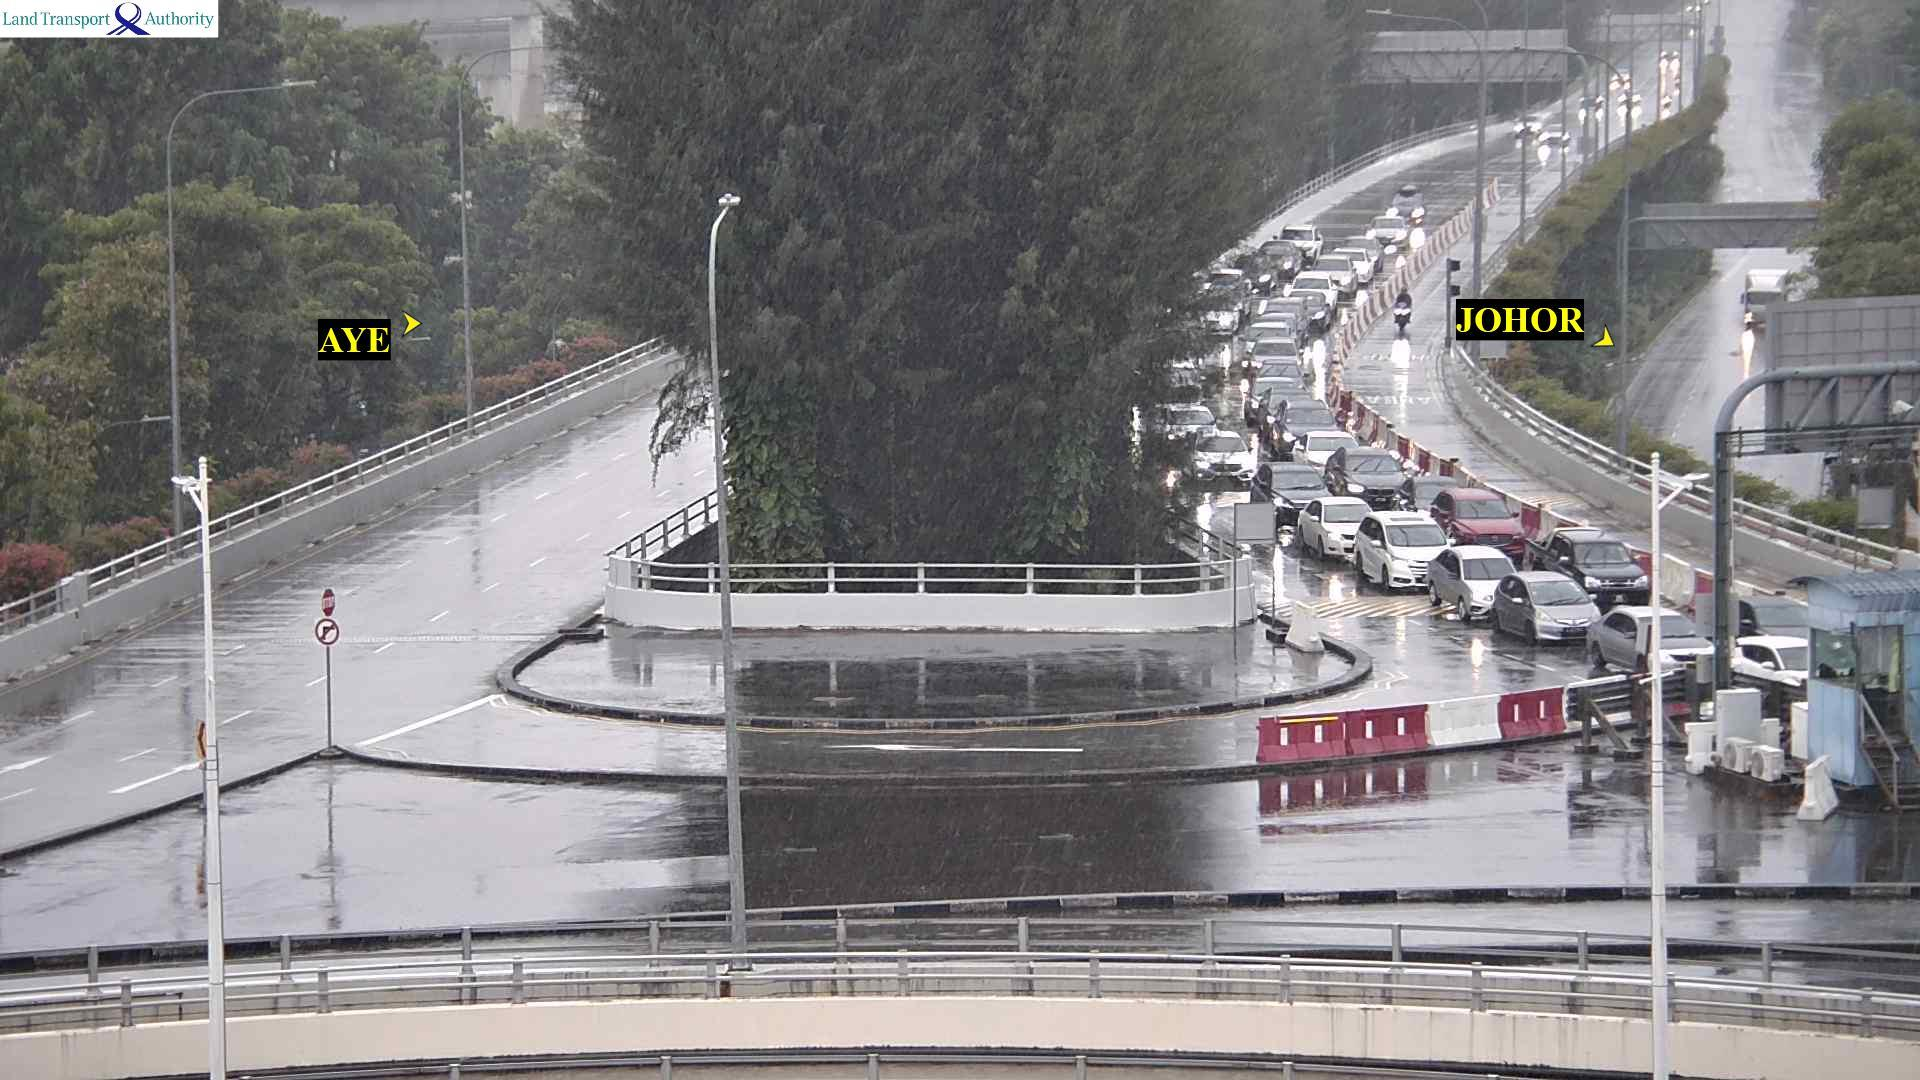vehicle-secondlink-johor: (1575, 612, 1732, 672), (1519, 532, 1658, 596), (1346, 519, 1468, 590), (1490, 577, 1613, 644), (1422, 493, 1541, 541), (1292, 501, 1383, 559), (1251, 465, 1340, 507), (1429, 549, 1532, 585), (1328, 449, 1396, 499), (1273, 401, 1334, 451), (1184, 434, 1249, 480), (1246, 302, 1323, 340), (1247, 379, 1310, 421), (1242, 317, 1320, 349), (1291, 278, 1349, 314), (1260, 391, 1313, 430), (1294, 431, 1359, 462), (1305, 260, 1372, 290), (1394, 476, 1455, 505), (1164, 408, 1212, 441), (1237, 255, 1278, 293), (1262, 240, 1303, 276), (1398, 192, 1438, 228), (1389, 187, 1426, 222), (1343, 236, 1383, 268), (1333, 246, 1368, 281), (1369, 219, 1412, 247), (1259, 363, 1302, 387), (1282, 228, 1323, 253), (1397, 286, 1409, 335), (1543, 125, 1569, 146), (1514, 115, 1540, 135)
